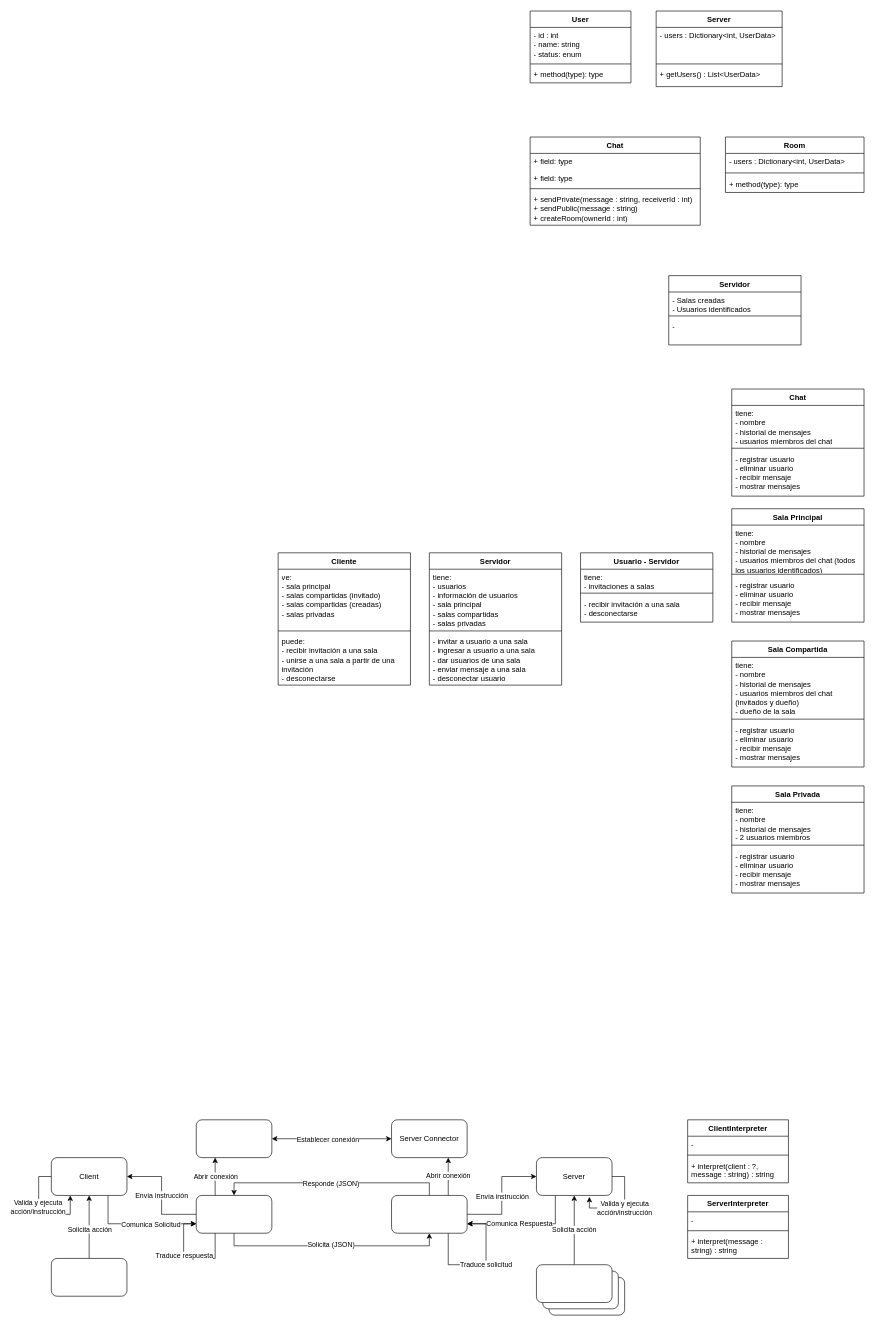
Image size: 875x1326. Some labels were removed from this diagram. Each missing label, with the centre of its shape:
"Client Connector" goes at [234,1138].
"Client Interpreter" goes at [234,1214].
"Server Interpreter" goes at [429,1214].
"View" goes at [89,1277].
"Views" goes at [574,1283].
